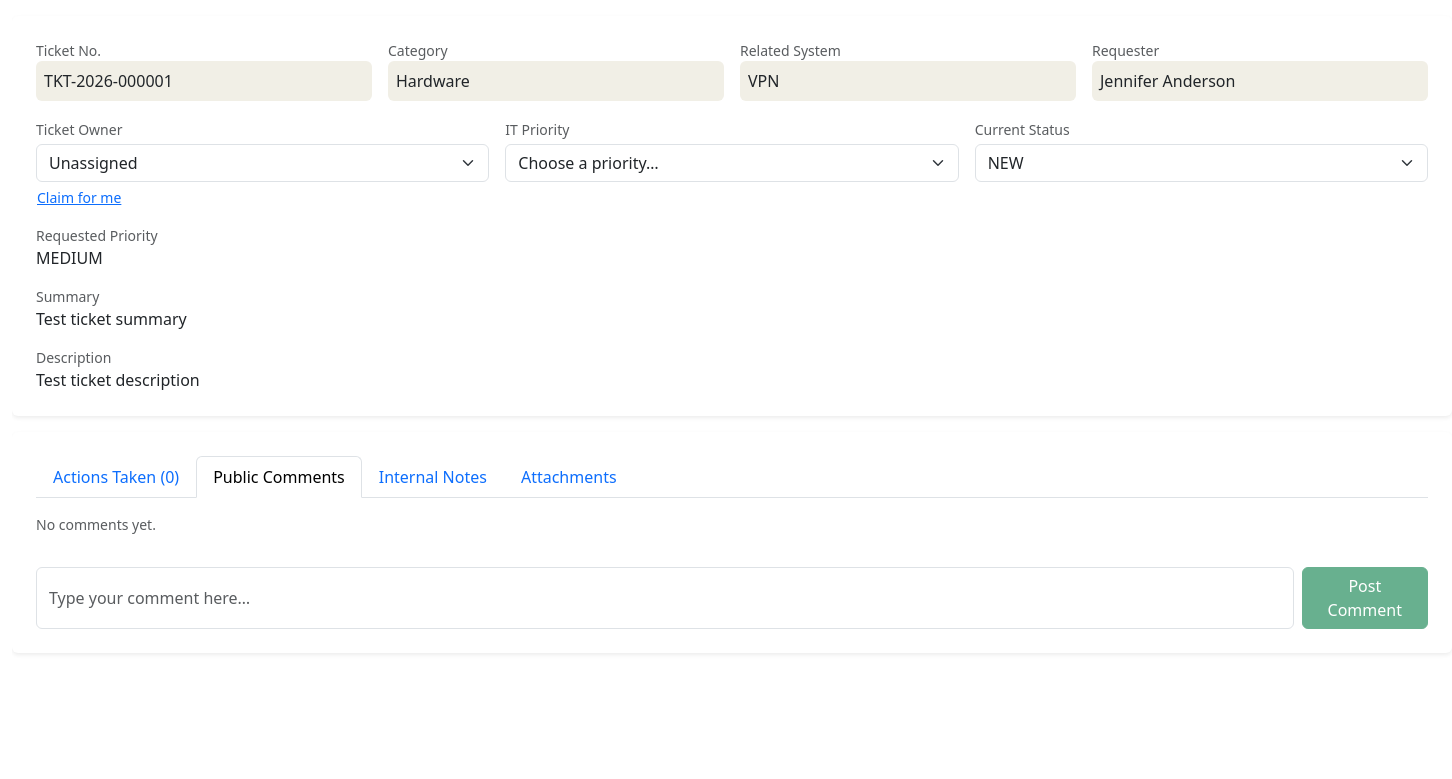
Test: Actions Taken — IT Staff Ticket Detail › requires a Follow-up Note only once Follow-Up Required is checked (UI-02)
Click the button "Actions Taken (0)": {"x": 116, "y": 477} [36,456,196,498]
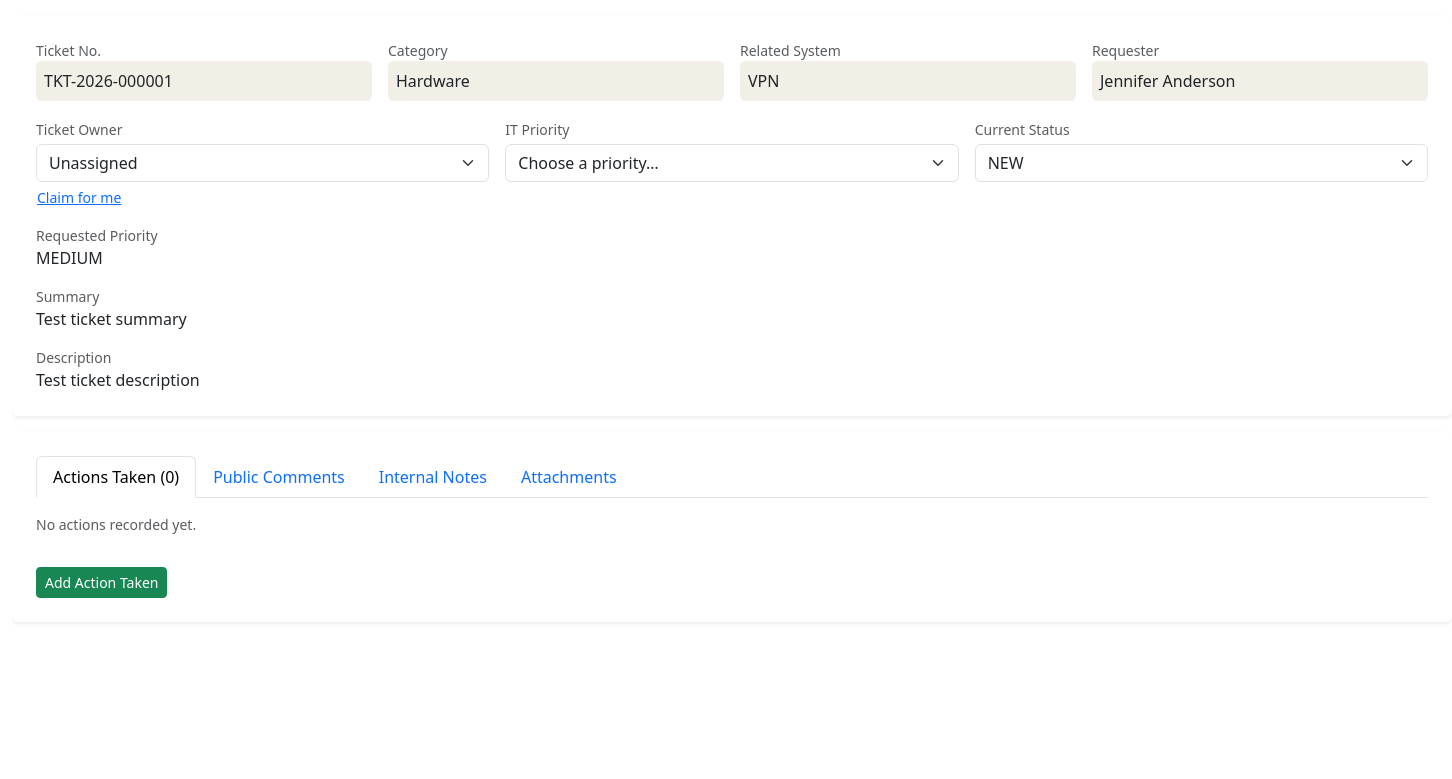
Click the button "Add Action Taken": {"x": 102, "y": 583} [36,567,168,598]
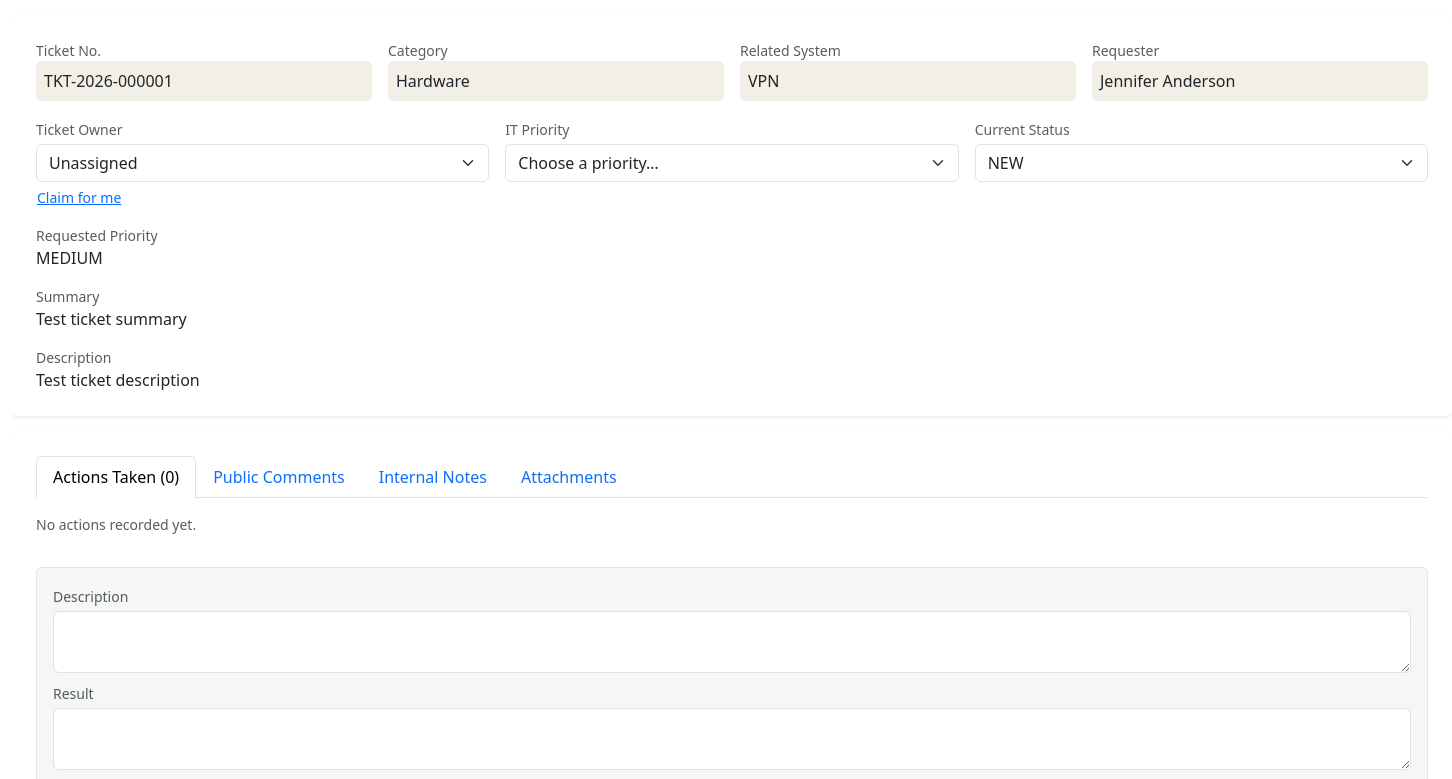
Expected: the field labelled "Follow-up Note" is not shown
In the text box labelled "Description": {"x": 732, "y": 642} [53,611,1411,673], type "Escalated to the network team."
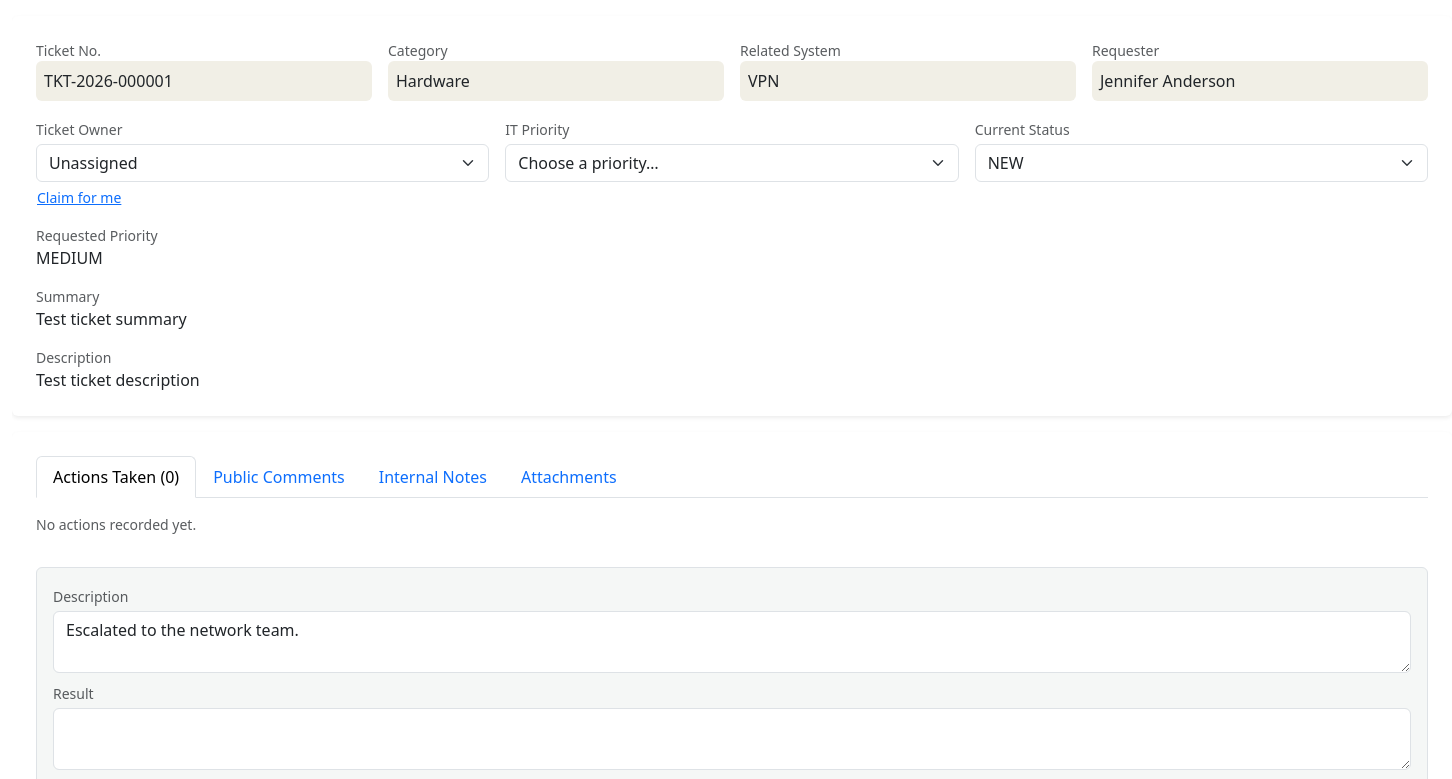
In the text box labelled "Result": {"x": 732, "y": 739} [53,708,1411,770], type "Awaiting their response."
(page scrolled)
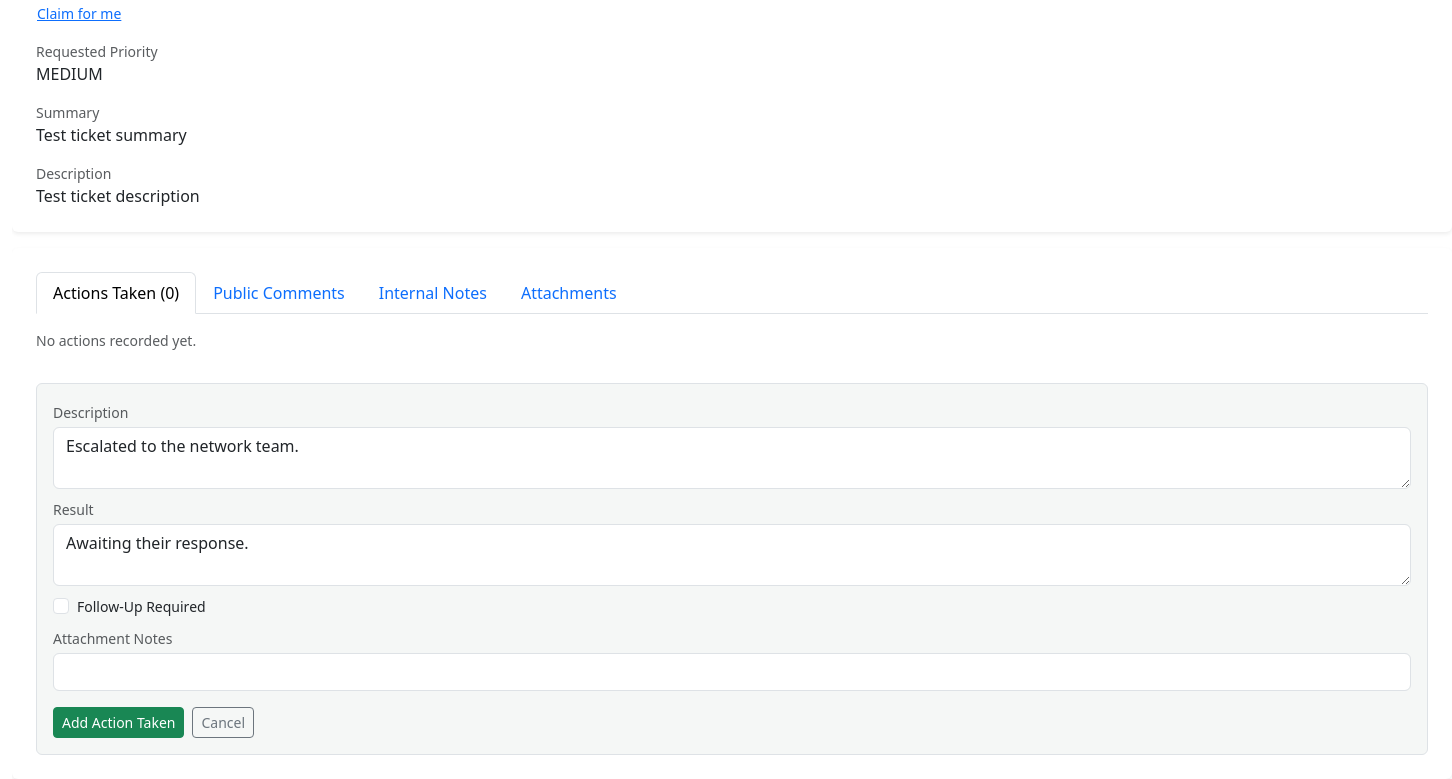
Click the checkbox labelled "Follow-Up Required": {"x": 61, "y": 606} [53,598,69,614]
(page scrolled)
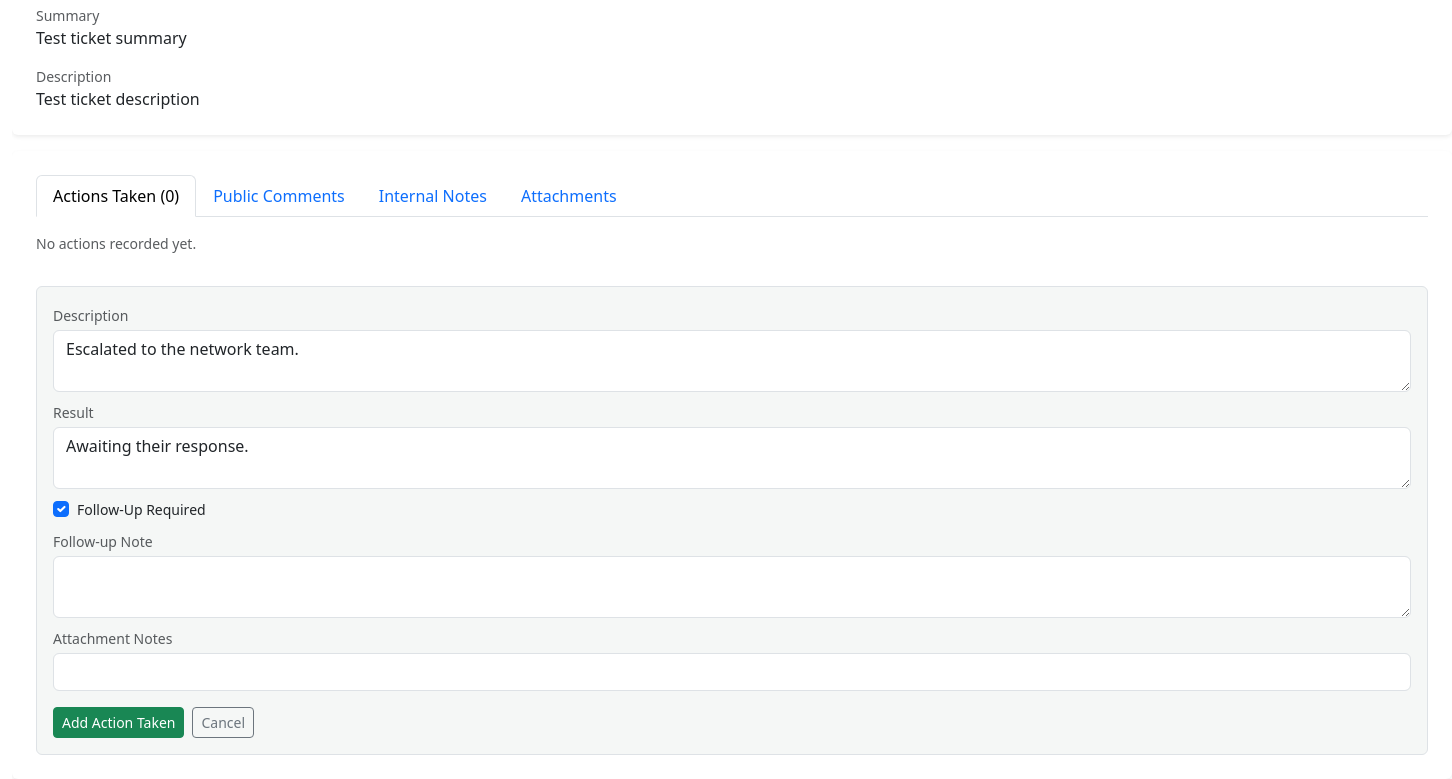
Expected: the text box labelled "Follow-up Note" is shown, [53,556,1411,618]
Click the button "Add Action Taken": {"x": 119, "y": 723} [53,707,184,738]
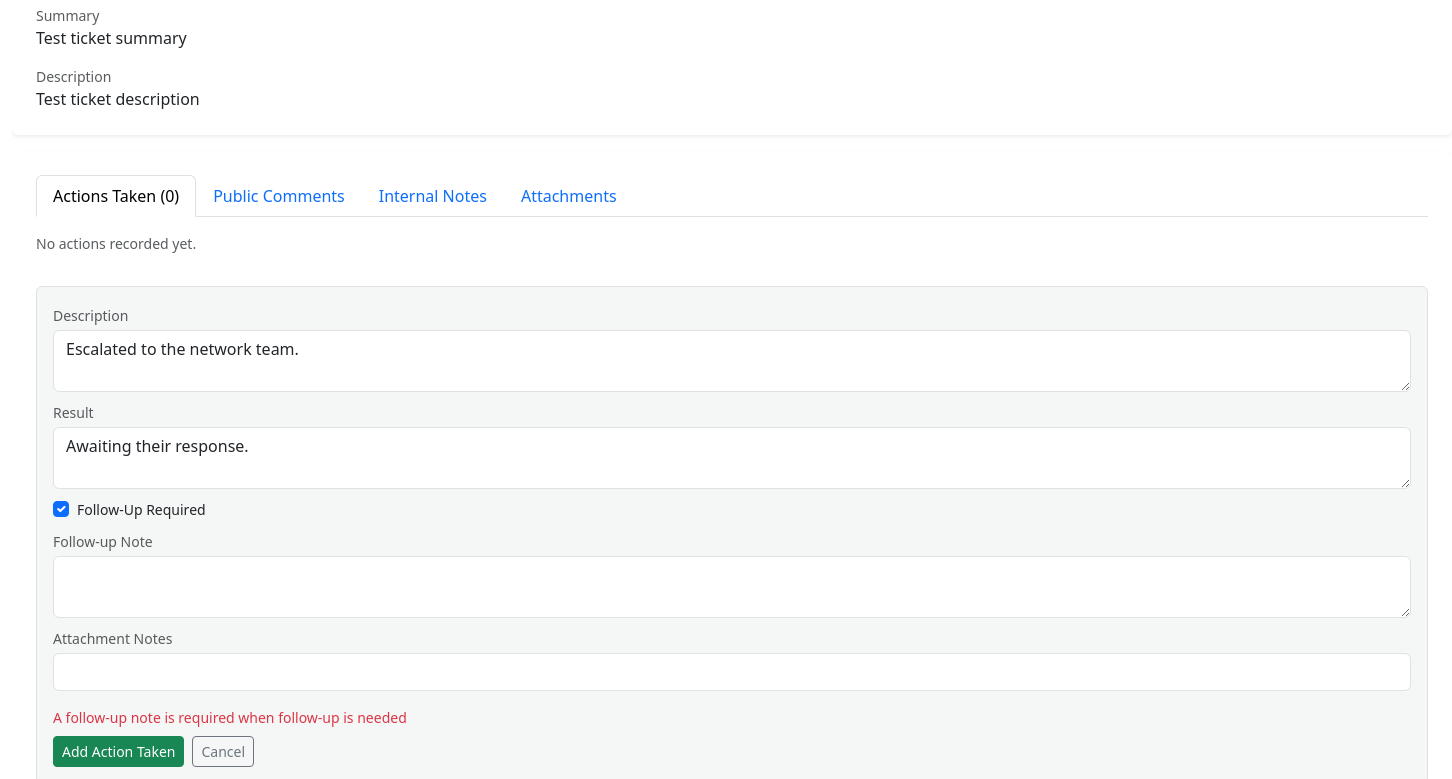
Expected: the text "A follow-up note is required when follow-up is needed" is shown, [53,708,407,727]
